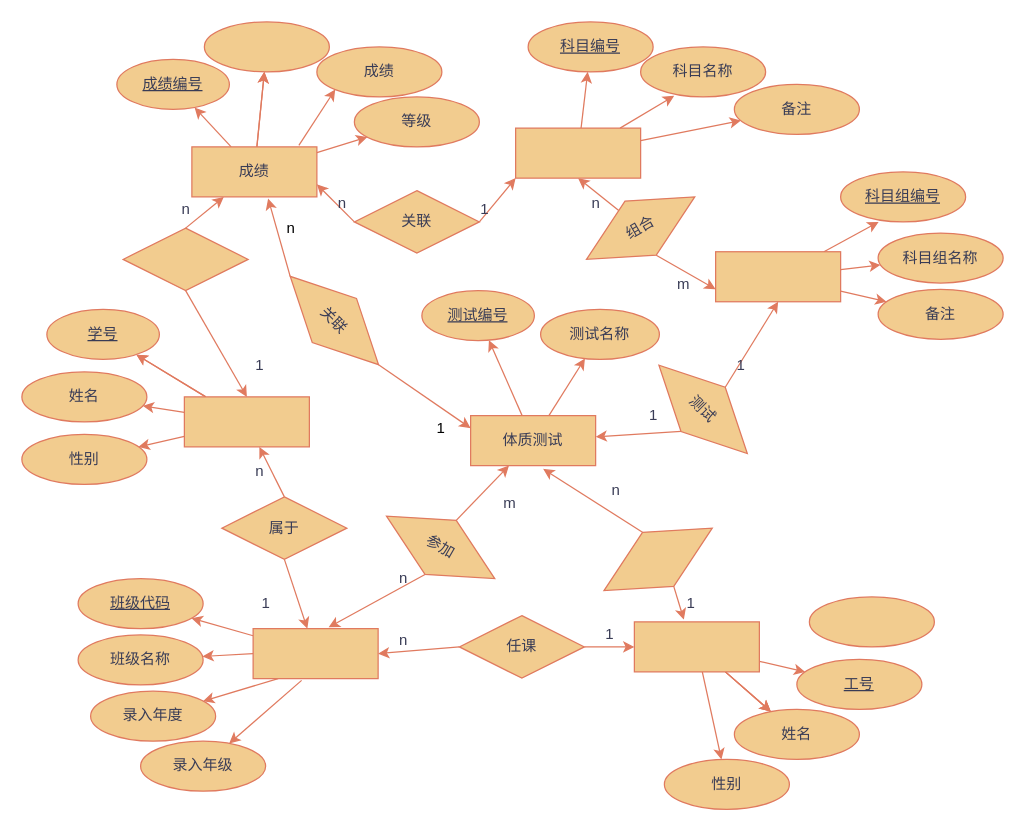
Image size: 1025x831. Some labels were removed from this diagram. The centre of each missing label's shape, as x and y in pixels:
"体测数据" goes at point (266, 46).
"创建" goes at point (657, 559).
"学生" goes at point (246, 421).
"拥有" goes at point (185, 259).
"教师" goes at point (696, 646).
"是否负责人" goes at point (871, 621).
"班级" goes at point (315, 653).
"科目" goes at point (577, 152).
"科目组" goes at point (777, 276).
